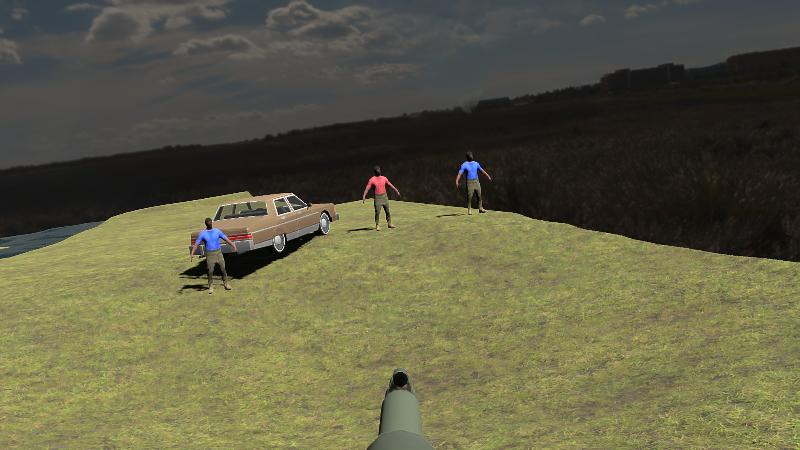Human: (192, 217, 238, 293), (364, 165, 401, 231), (457, 150, 492, 215)
car: (189, 191, 339, 261)
